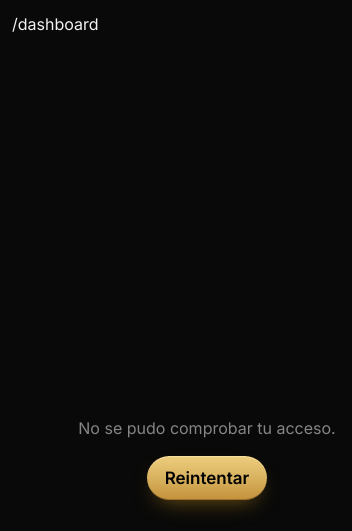
generic dashboard entry › does not mistake a failed role check for a non-admin and supports retry
The width and height of the screenshot is (352, 531).
Click the button "Reintentar".
click(207, 478)  # box top-left (147, 456), bottom-right (267, 500)
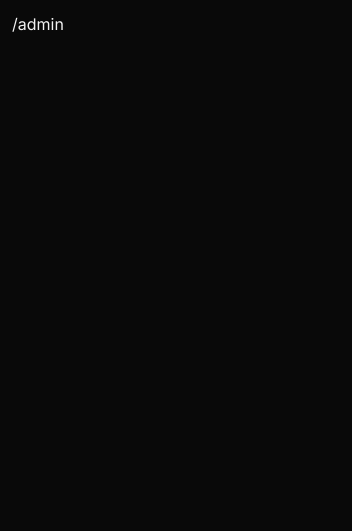
Expected: the text with test id "location" reads "/admin", top-left (12, 14), bottom-right (64, 34)
